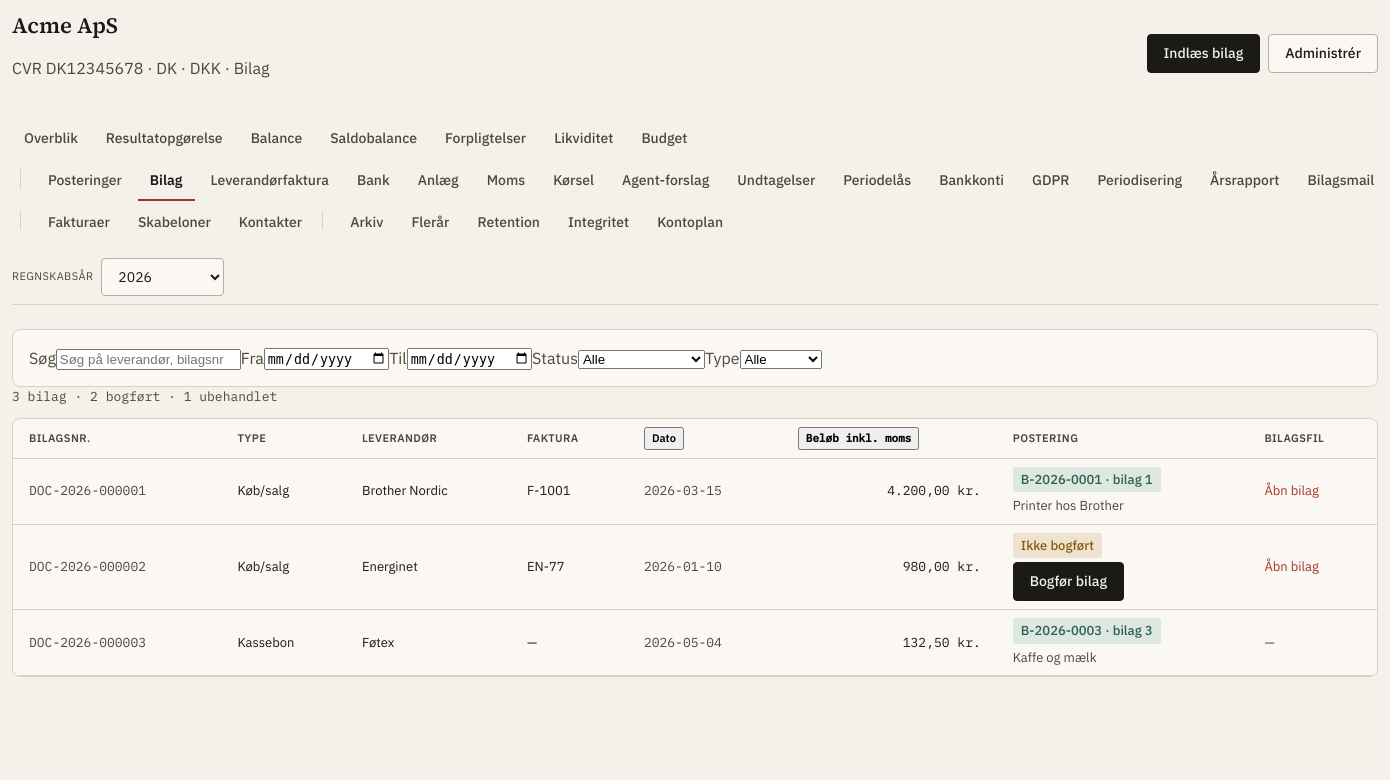
it: DocumentsView — Bilag › filters by free-text on supplier name (#433)
Check: the text "Brother Nordic" is shown, box [346,458,511,524]
Type "energinet" into the search field labelled "Søg" at (148, 359), box [56,348,241,370]
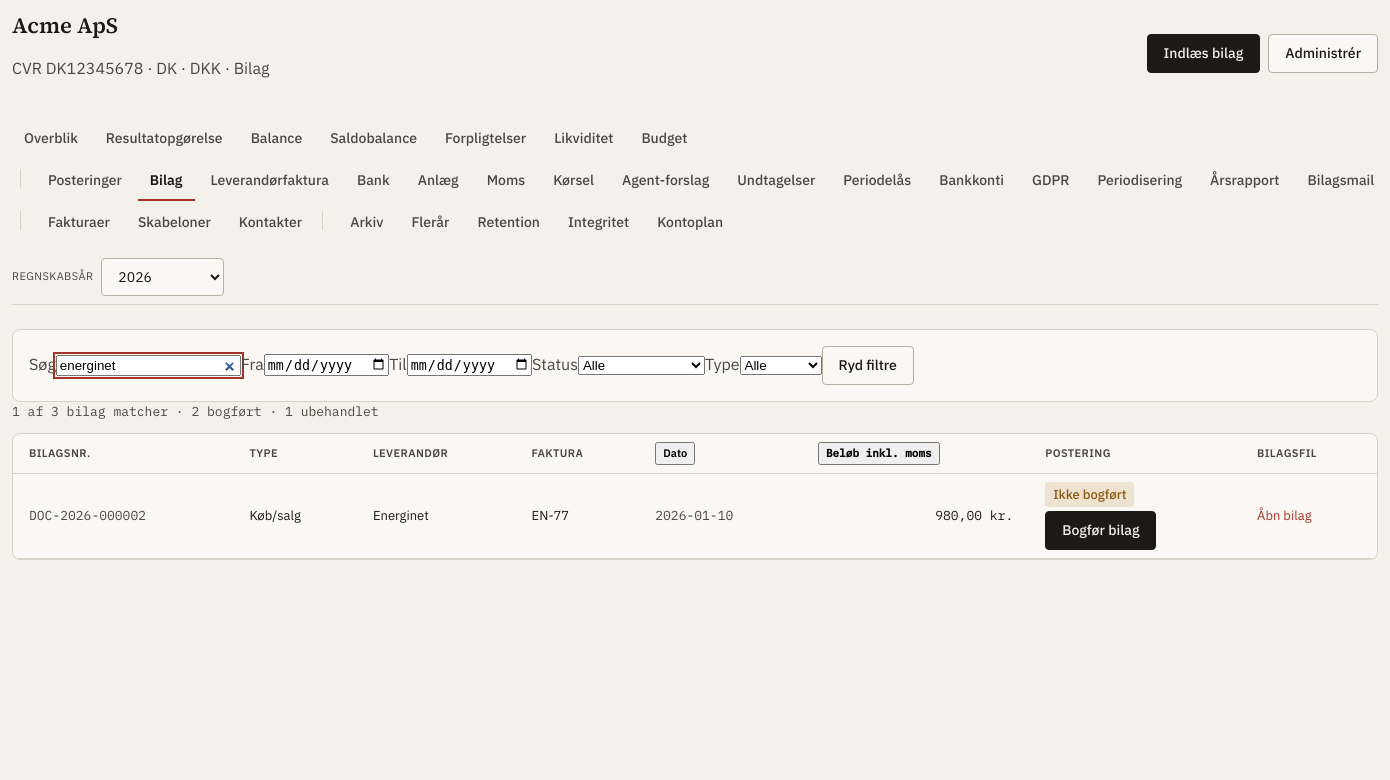
Check: the text "Energinet" is shown, box [357,473,516,558]
Check: the text "Brother Nordic" is gone
Check: the text "1 af 3 bilag matcher · 2 bogført · 1 ubehandlet" is shown, box [12,402,379,420]
